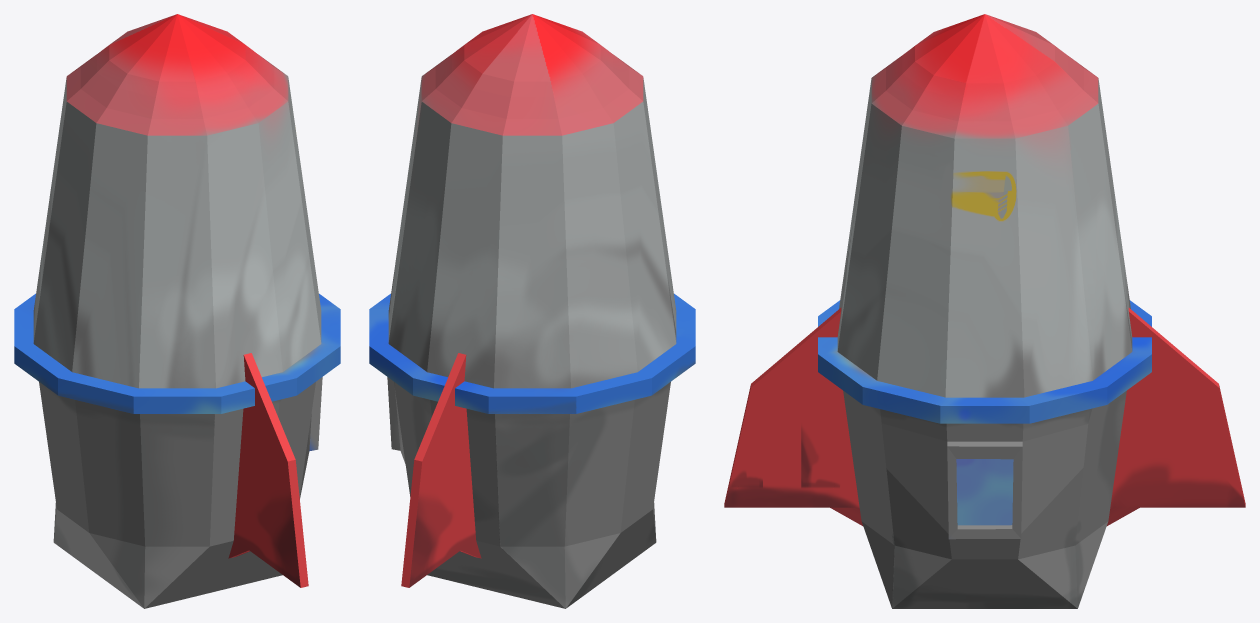
The model's file is WingShip.fbx.
3 views of the same model, side by side, from view 1: azimuth 30°, elevation 25°; view 2: azimuth 150°, elevation 25°; view 3: azimuth 270°, elevation 25° (orthographic). The views are drawn at different scales.
Visible parts, largest first — view 1: SpaceShip, Wing; view 2: SpaceShip, Wing; view 3: SpaceShip, Wing, Door.
Boxes of the visible parts, x1,y1,x2,y2 form: SpaceShip: [14, 14, 340, 608]; Wing: [228, 353, 308, 587]; SpaceShip: [369, 14, 695, 608]; Wing: [401, 353, 481, 587]; SpaceShip: [818, 14, 1151, 608]; Wing: [724, 307, 1245, 525]; Door: [956, 459, 1013, 525].
Bounding box in the file's own units: 91.17 × 167 × 142.
Materials: 3 (3 with a texture image).
